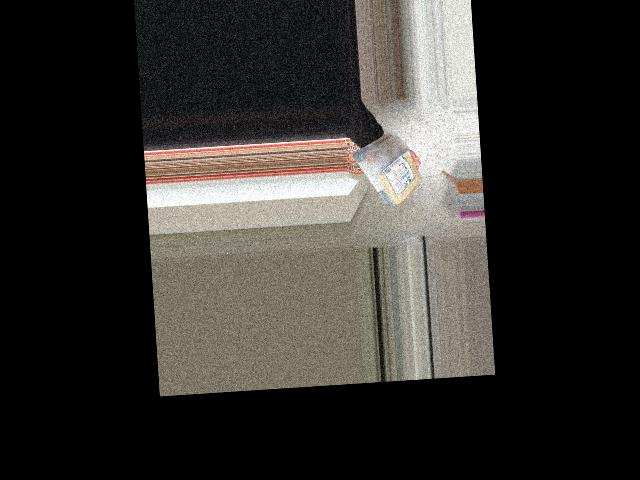cheese: (347, 127, 428, 211)
